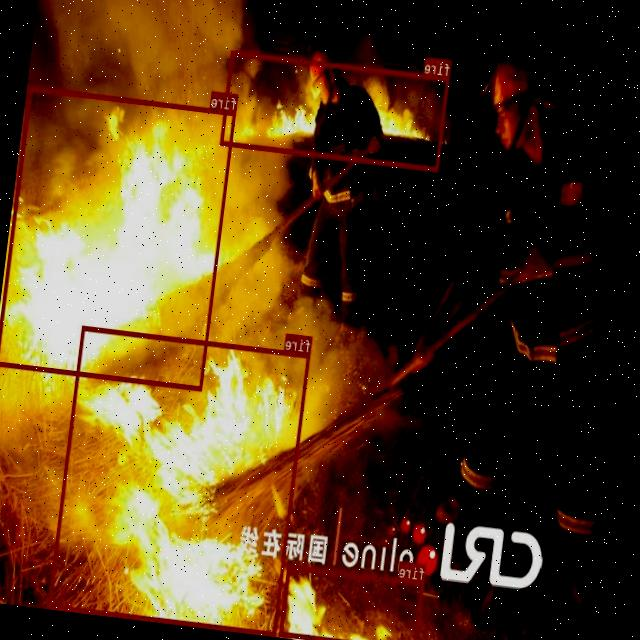fire: (48, 325, 310, 635), (0, 85, 236, 390), (220, 50, 450, 171), (280, 563, 425, 640)
